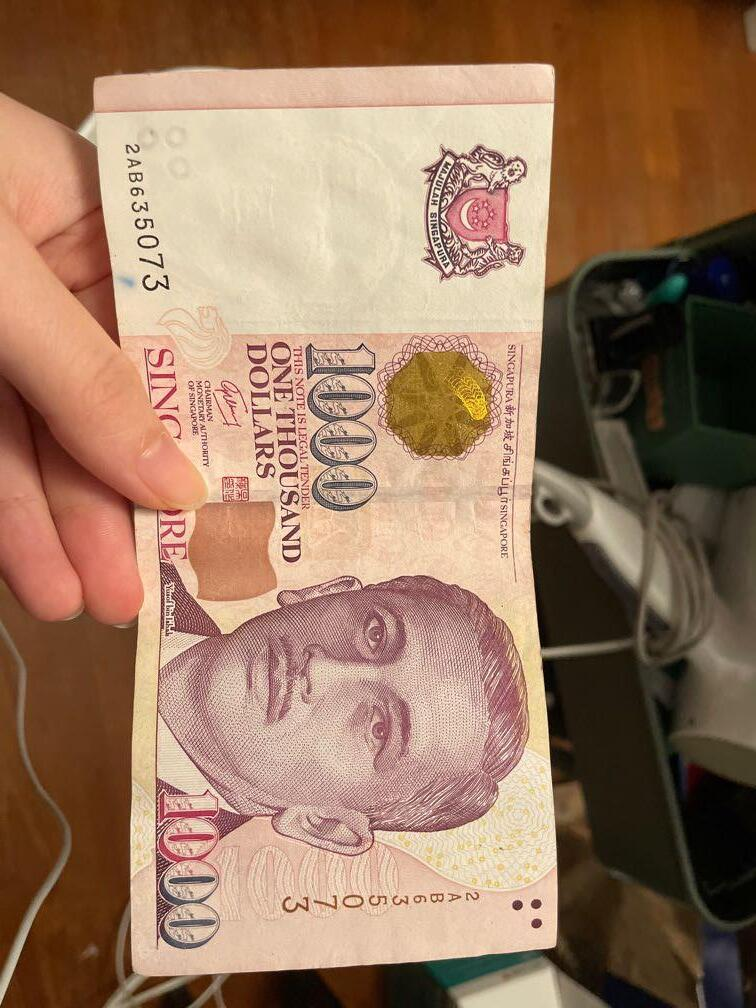1000SingaporeDollar: (139, 77, 545, 951)
